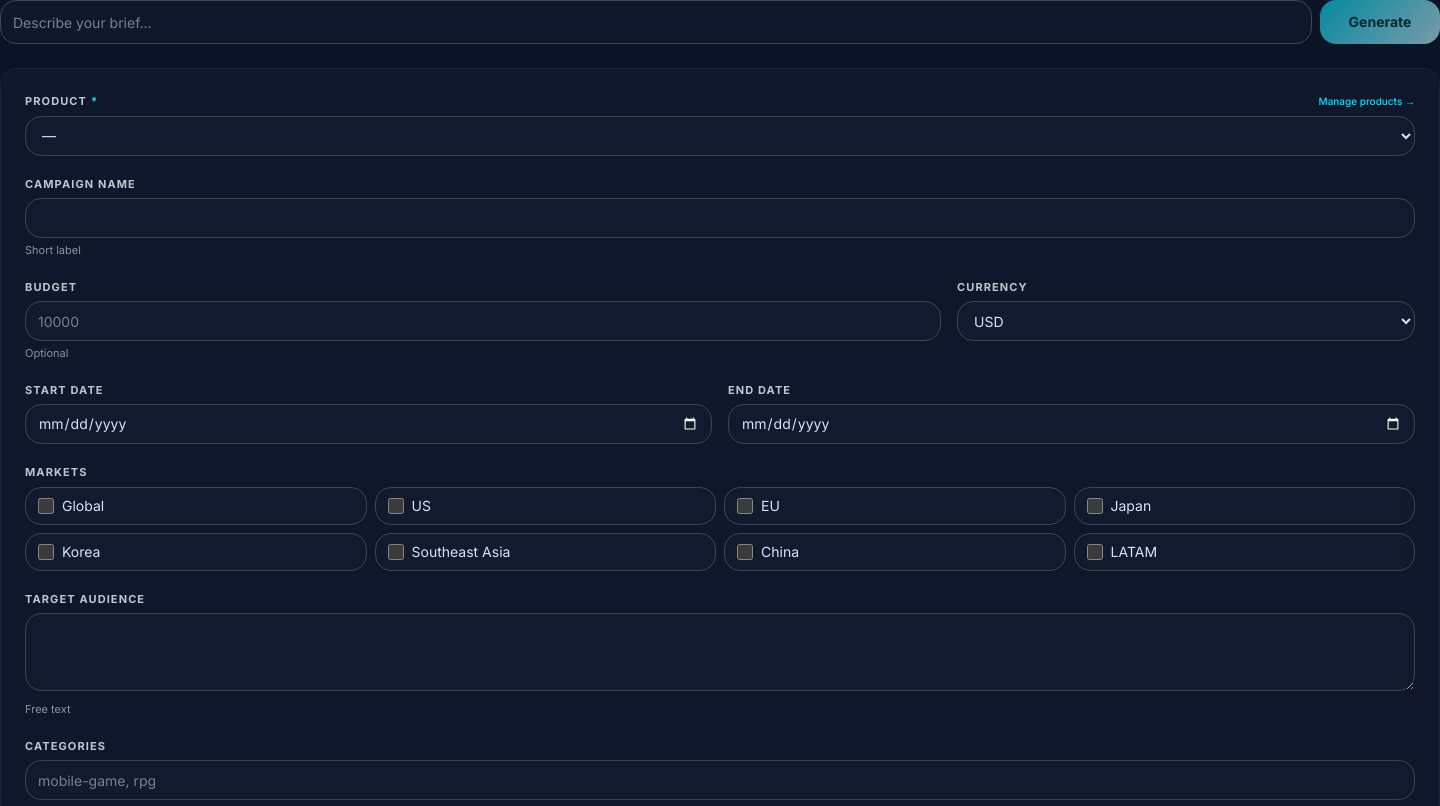
Test: BL-069-F003 BriefPageClient › 3. Generate unparsable → toast + form state unchanged
This screenshot has width=1440, height=806.
Type "hello" into the field with test id "brief-ai-input" at (656,22), box [0, 0, 1312, 44]
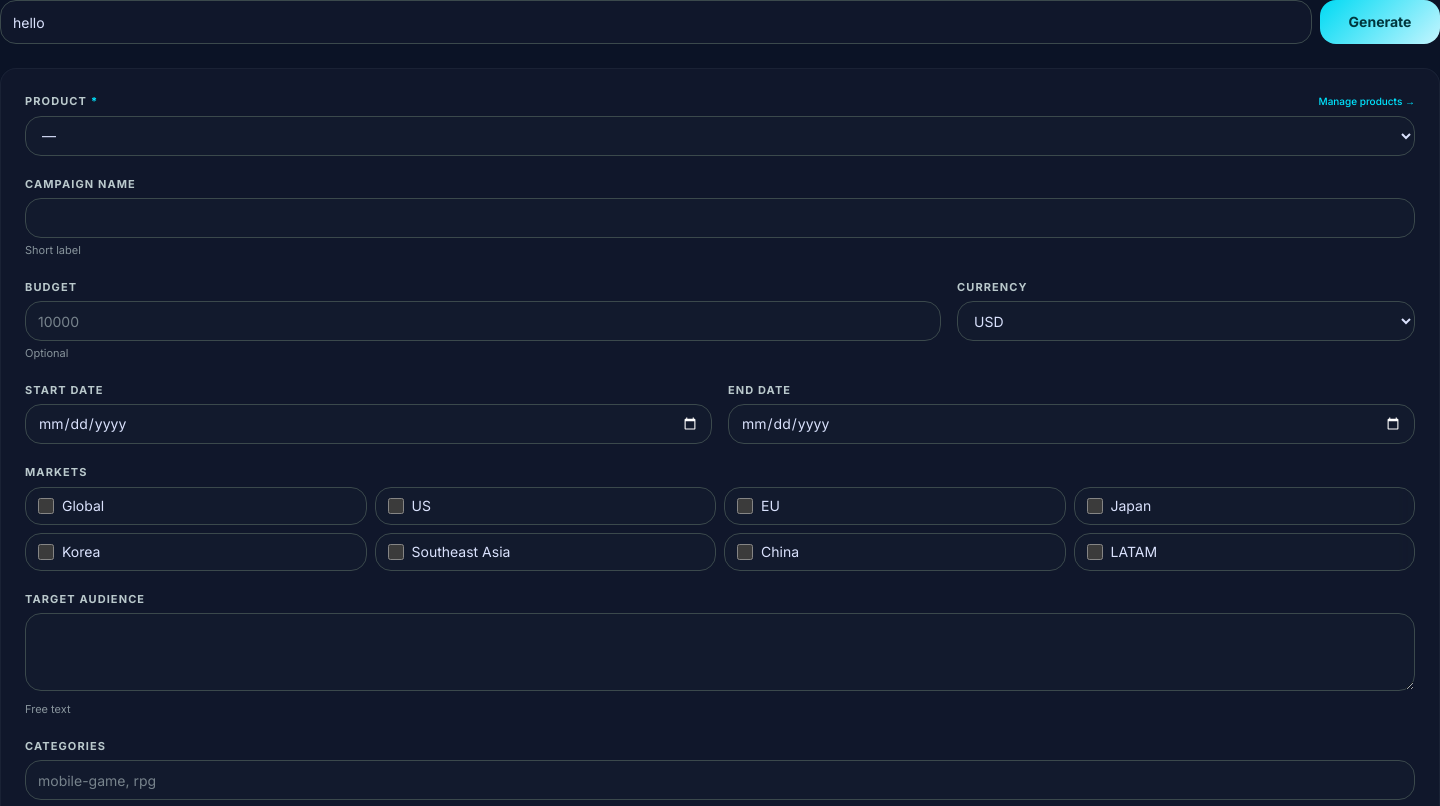
Click the button with test id "brief-ai-generate" at (1380,22), box [1320, 0, 1439, 44]
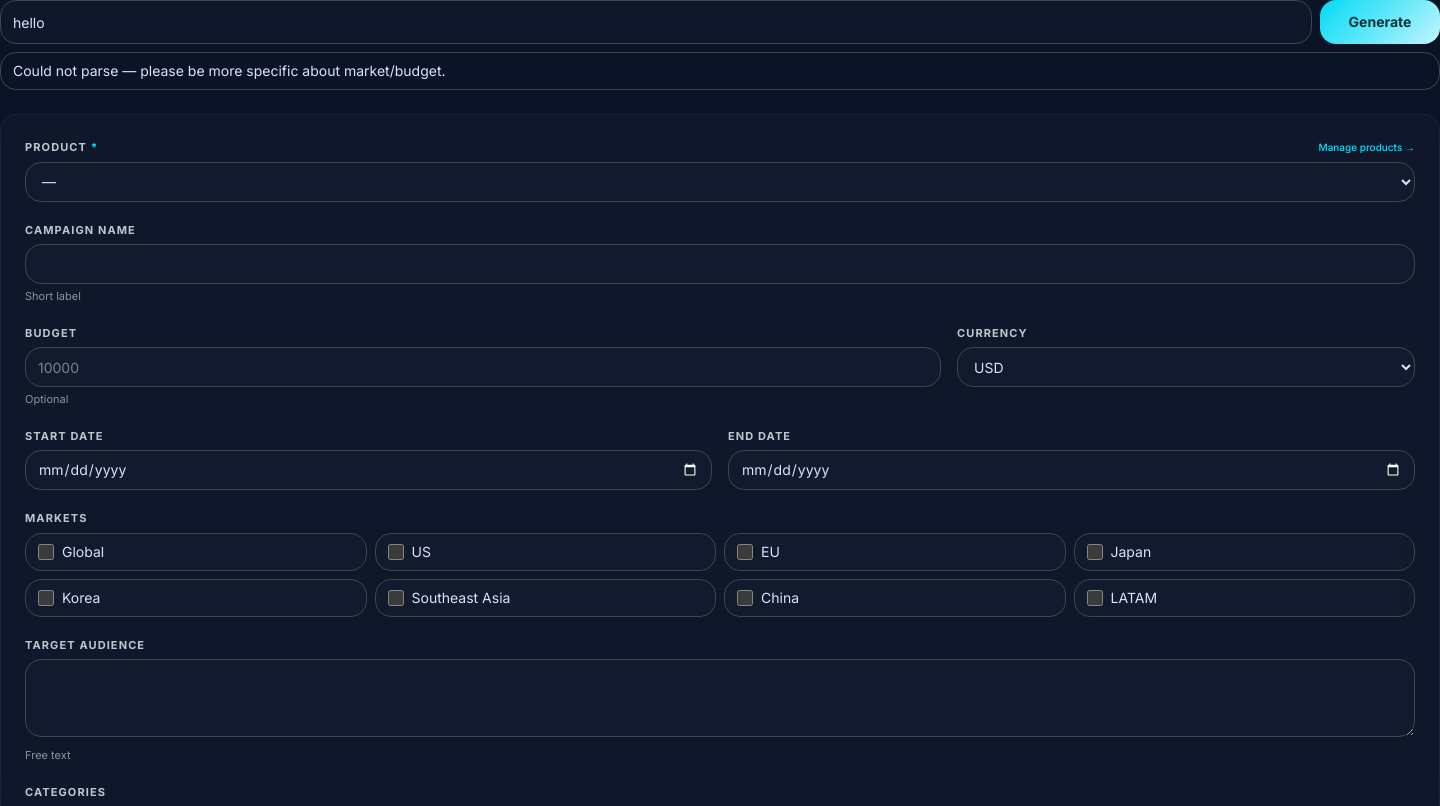
Expected: the field with test id "brief-budget-amount" is empty, [25, 347, 941, 387]
Expected: the text with test id "brief-ai-toast-unparsable" is shown, [0, 52, 1439, 90]
